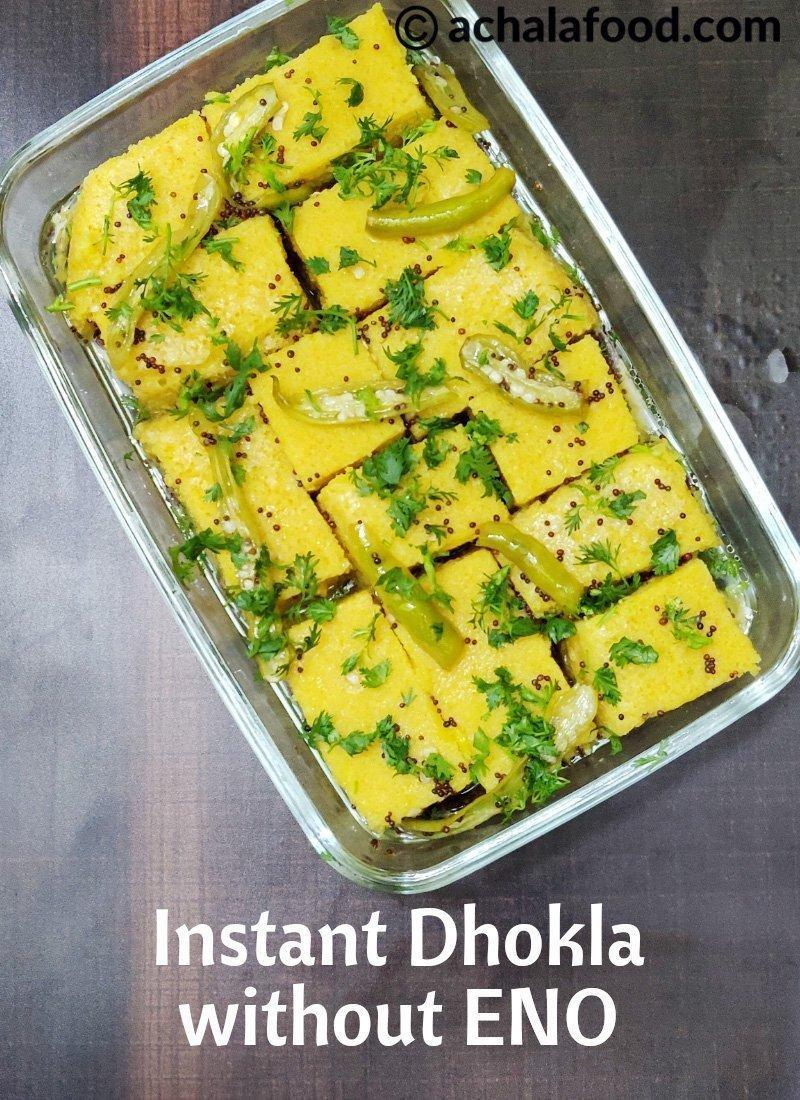dhokla: (60, 18, 733, 836)
